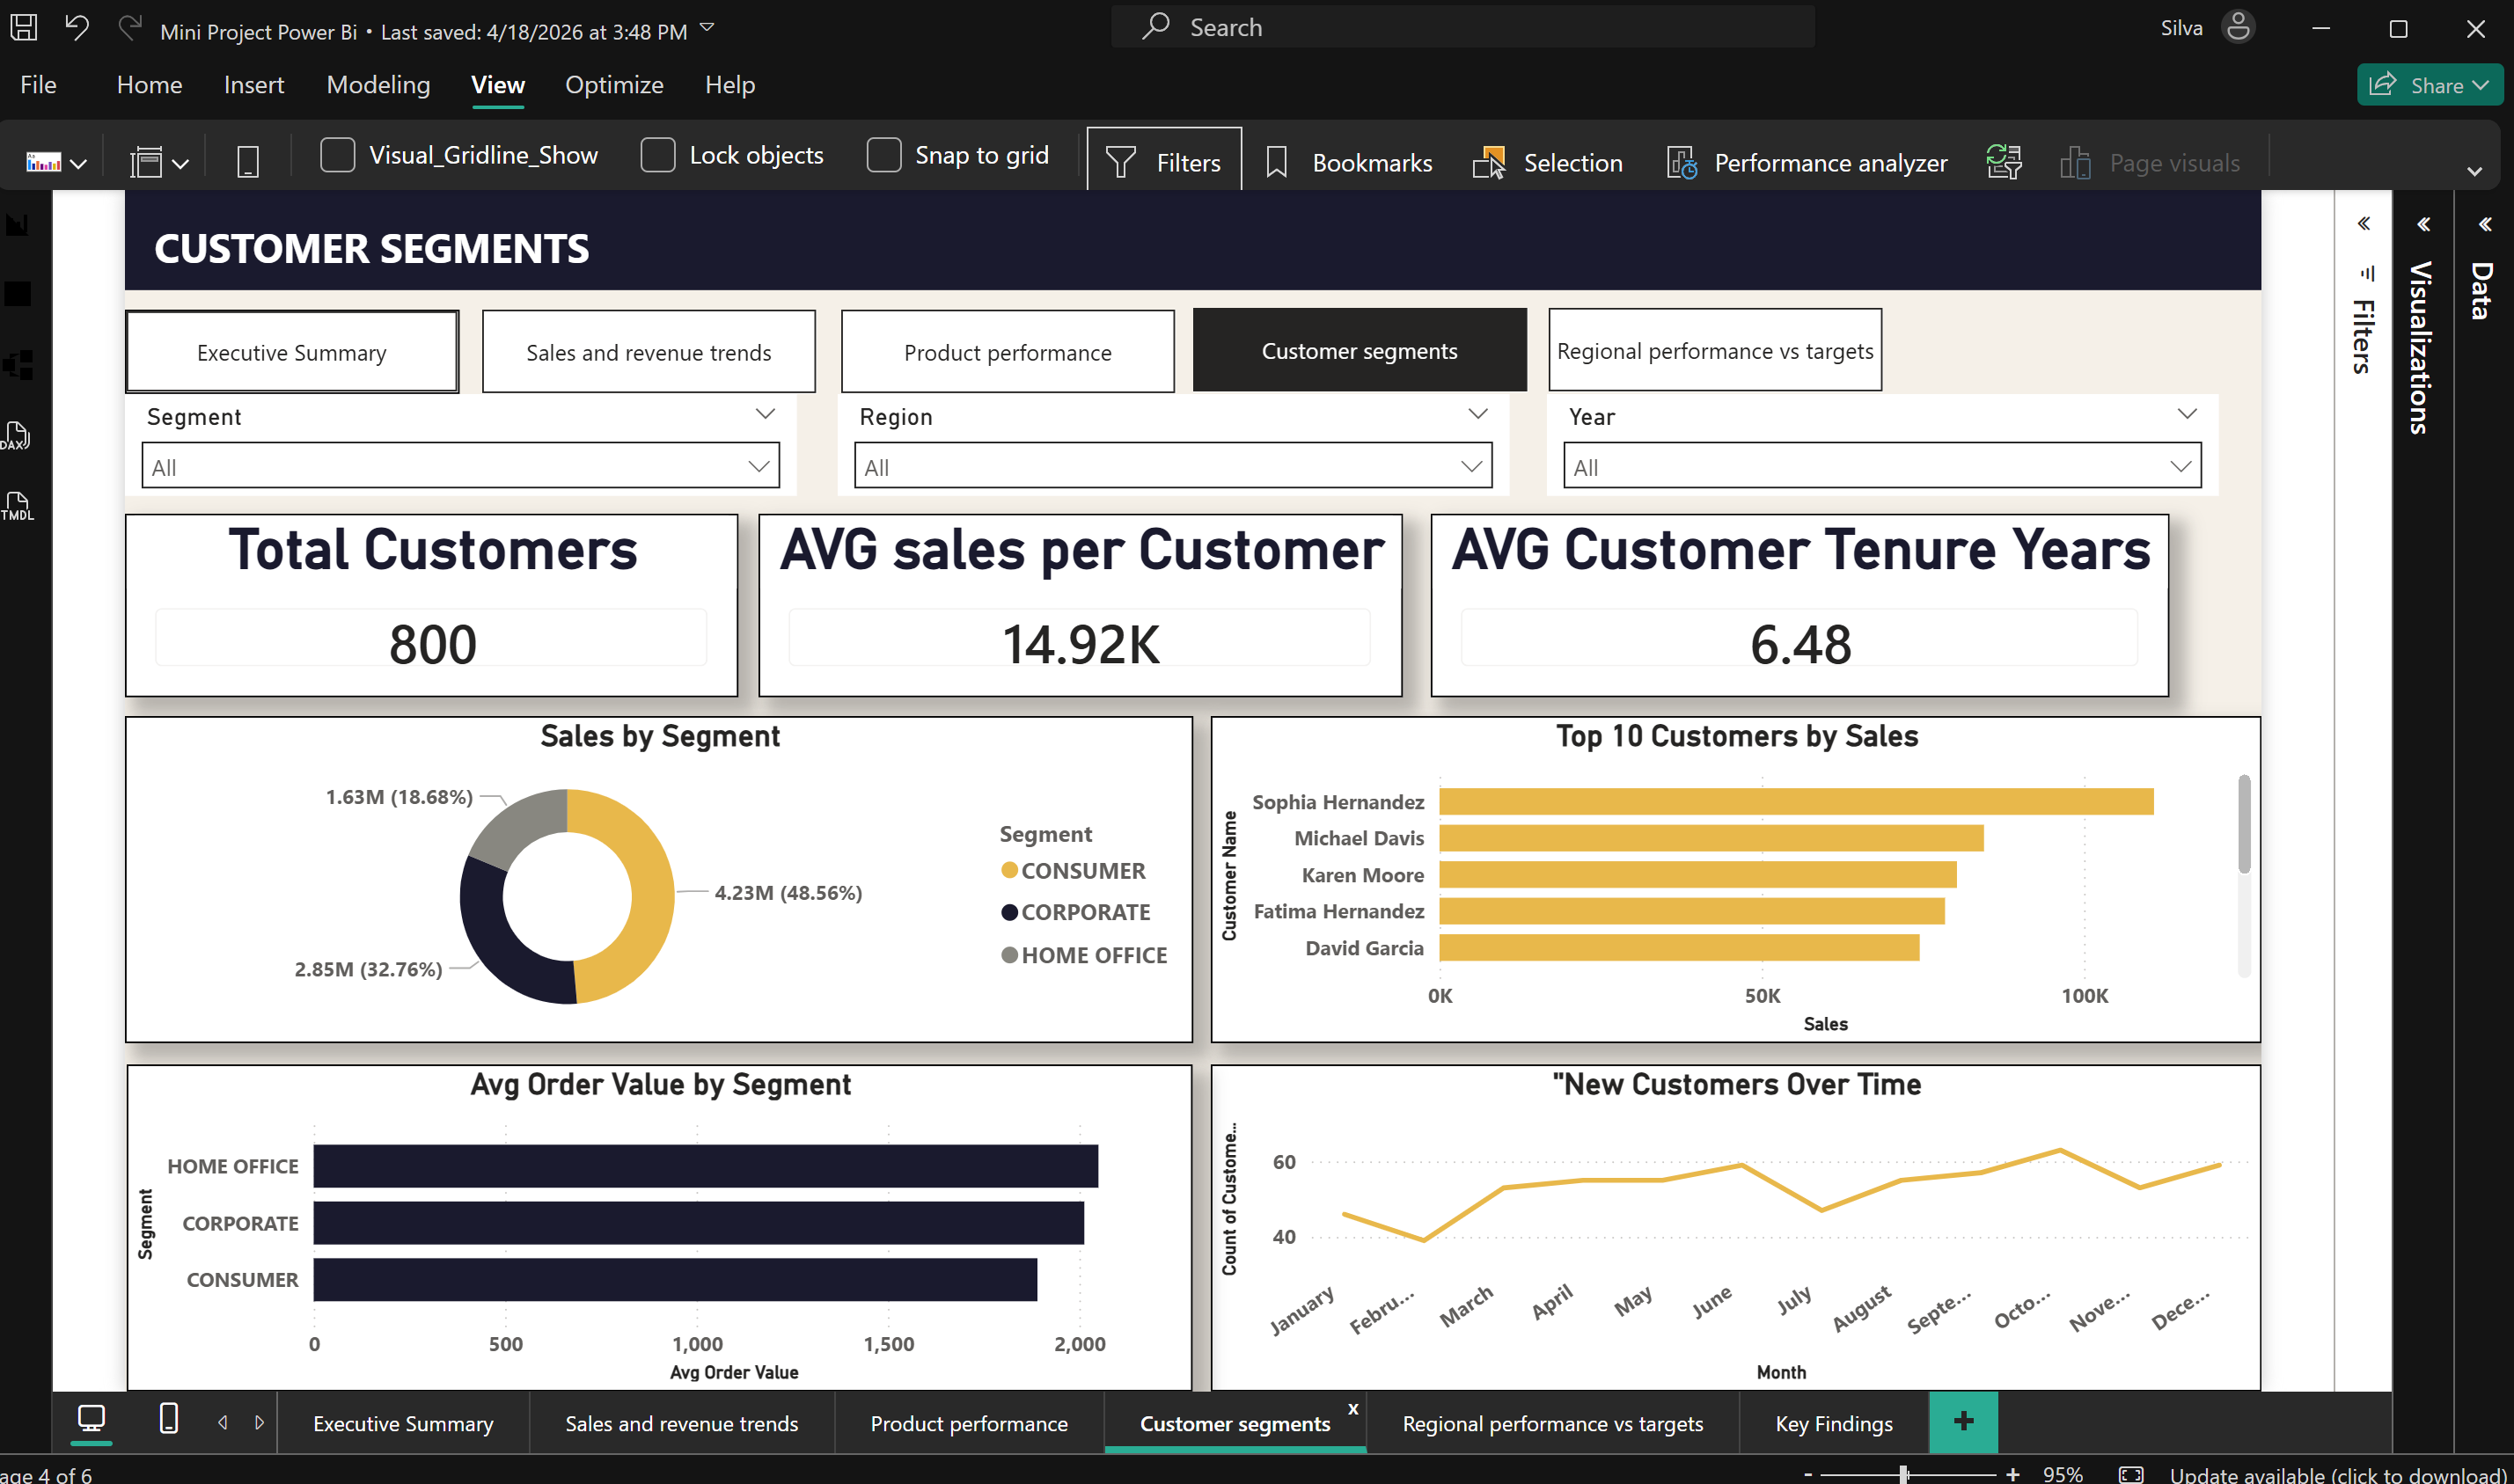

This screenshot's page, from the dashboard's own definition file:
{"tool":"powerbi","page":{"name":"Customer segments","canvas":[1280,720],"ordinal":3},"visuals":[{"type":"shape","box":[0,0,1280,60],"z":0},{"type":"pageNavigator","box":[0,72,200.6,50.5],"z":1000},{"type":"pageNavigator","box":[214.4,72,200.6,50.5],"z":2000},{"type":"pageNavigator","box":[428.7,72,200.6,50.5],"z":3000},{"type":"pageNavigator","box":[640,70.4,200.6,50.5],"z":4000},{"type":"pageNavigator","box":[852.8,70.4,200.6,50.5],"z":5000},{"type":"textbox","box":[12.2,12.2,281.7,47.5],"z":6000},{"type":"slicer","fields":{"Values":["Customers.Segment"]},"box":[0,122.5,402.7,61.2],"z":7000},{"type":"cardVisual","title":"Total Customers","fields":{"Data":["Key Measures.Total Customers"]},"box":[0,194.4,367.5,110.2],"z":8000},{"type":"cardVisual","title":"AVG sales per Customer","fields":{"Data":["Customers.Avg sales per customer"]},"box":[379.7,194.4,385.8,110.2],"z":9000},{"type":"cardVisual","title":"AVG Customer Tenure Years","fields":{"Data":["Avg(Customers.Customer Tenure Years)"]},"box":[782.4,194.4,442.5,110.2],"z":10000},{"type":"donutChart","title":"Sales by Segment","fields":{"Y":["Key Measures.Total Sales"],"Category":["Customers.Segment"]},"box":[0,315.4,640,196],"z":11000},{"type":"barChart","title":"Top 10 Customers by Sales","fields":{"Category":["Customers.Full Name"],"Y":["Key Measures.Total Sales"]},"box":[650.7,315.4,629.3,196],"z":12000},{"type":"lineChart","title":"\"New Customers Over Time","fields":{"Category":["Customers.JoinDate.Variation.Date Hierarchy.Month"],"Y":["CountNonNull(Customers.CustomerID)"]},"box":[650.7,523.6,629.3,196],"z":13000},{"type":"clusteredBarChart","title":"Avg Order Value by Segment","fields":{"Category":["Customers.Segment"],"Y":["Key Measures.Avg Order Value"]},"box":[1.5,523.6,638.5,196],"z":14000},{"type":"slicer","fields":{"Values":["Customers.Region"]},"box":[427.2,122.5,402.7,61.2],"z":15000},{"type":"slicer","fields":{"Values":["Date Table.Year"]},"box":[851.3,122.5,402.7,61.2],"z":16000}]}

Visuals, with their boxes on the page's 1280x720 design canvas (x1, y1, x2, y2). These are canvas units, not pixel positions in the 2514x1484 screenshot, which may show the page scaled, cropped or inside an application window:
shape: 0, 0, 1280, 60
pageNavigator: 0, 72, 201, 122
pageNavigator: 214, 72, 415, 122
pageNavigator: 429, 72, 629, 122
pageNavigator: 640, 70, 841, 121
pageNavigator: 853, 70, 1053, 121
textbox: 12, 12, 294, 60
slicer - Customers.Segment: 0, 122, 403, 184
"Total Customers" cardVisual: 0, 194, 368, 305
"AVG sales per Customer" cardVisual: 380, 194, 766, 305
"AVG Customer Tenure Years" cardVisual: 782, 194, 1225, 305
"Sales by Segment" donutChart: 0, 315, 640, 511
"Top 10 Customers by Sales" barChart: 651, 315, 1280, 511
""New Customers Over Time" lineChart: 651, 524, 1280, 720
"Avg Order Value by Segment" clusteredBarChart: 2, 524, 640, 720
slicer - Customers.Region: 427, 122, 830, 184
slicer - Date Table.Year: 851, 122, 1254, 184
